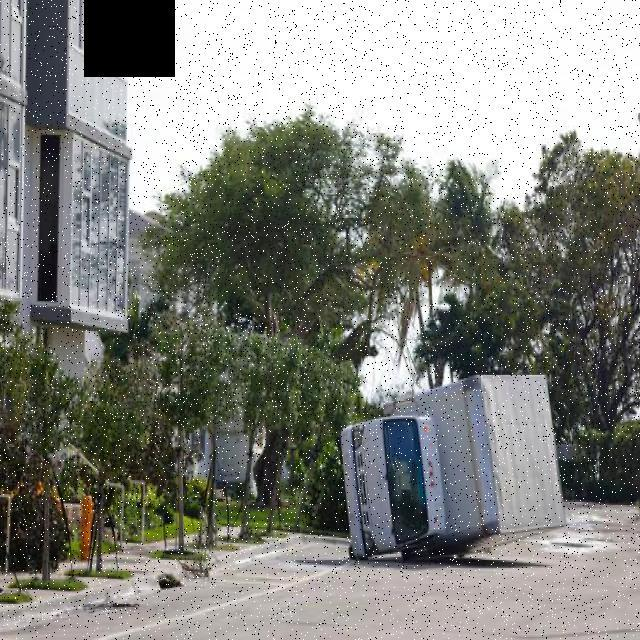severe: (333, 366, 571, 566)
